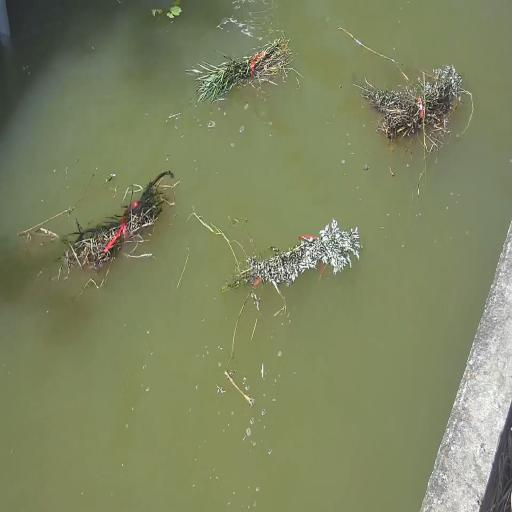twig: (27, 162, 161, 281), (229, 208, 358, 303), (354, 63, 475, 148), (192, 41, 299, 116), (150, 0, 192, 26)
